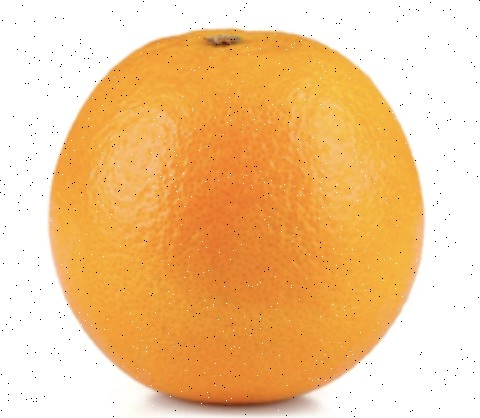fresh_orange: (48, 26, 425, 407)
